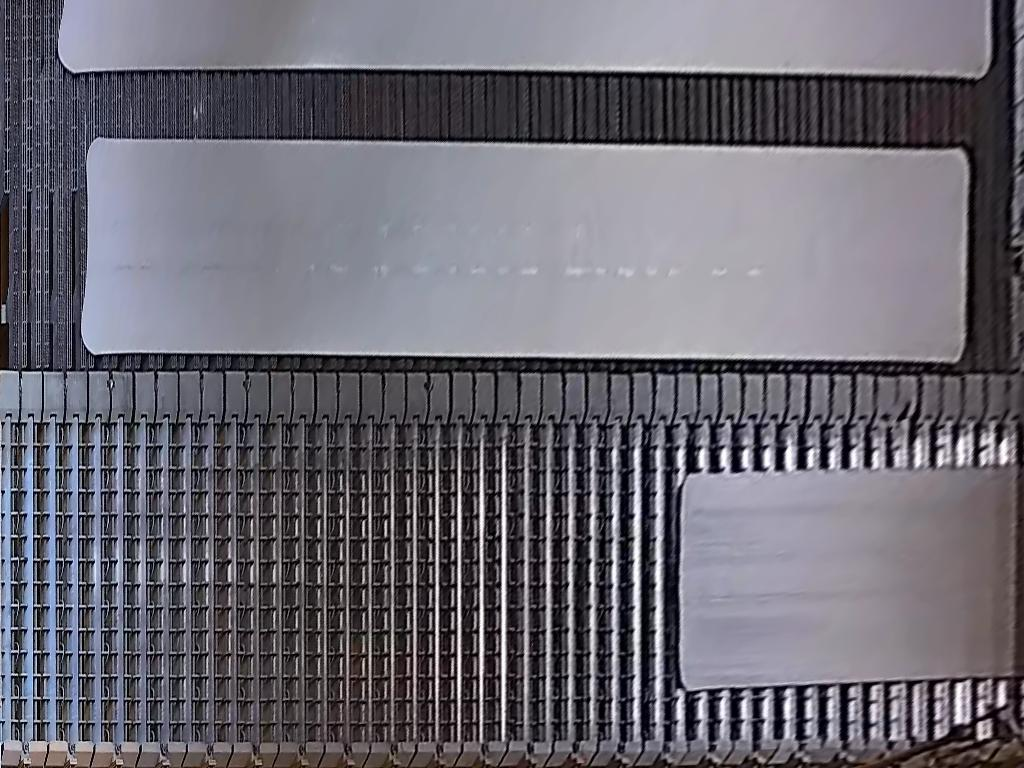steel: (74, 137, 968, 365), (679, 466, 1024, 692), (55, 1, 989, 77)
